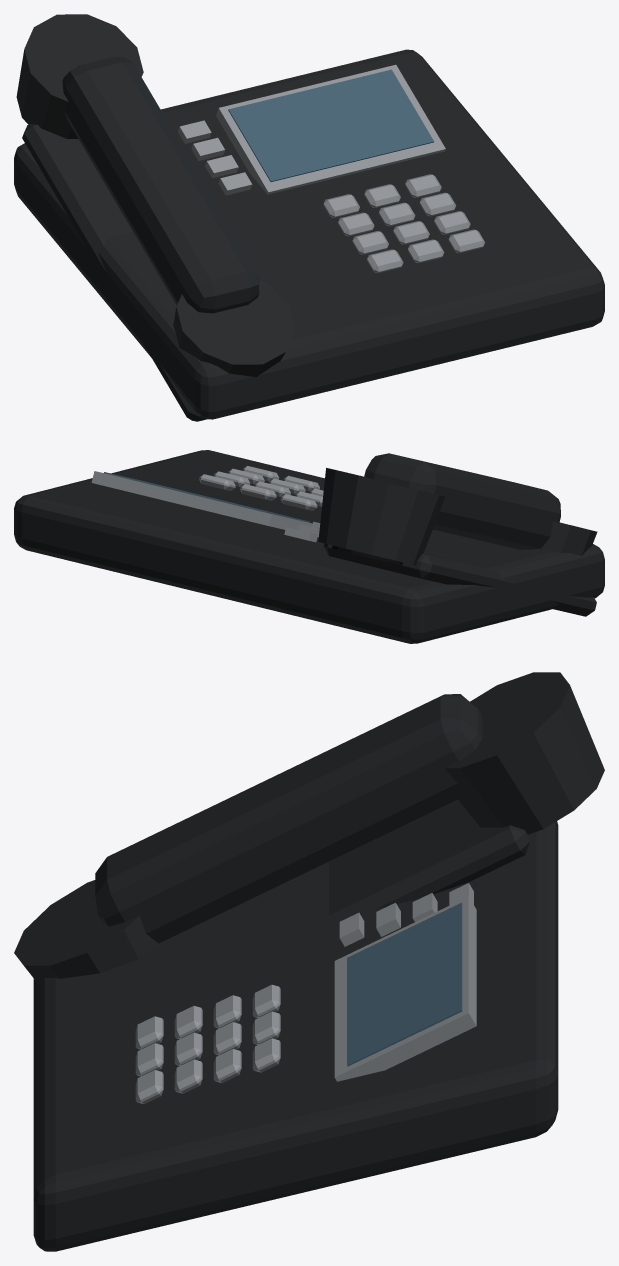
Rendered from desk_phone_office.glb.
The picture shows the model from 3 angles, top to bottom: view 1: azimuth 30°, elevation 25°; view 2: azimuth 150°, elevation 25°; view 3: azimuth 270°, elevation 25°; orthographic projection. The views are drawn at different scales.
Parts seen in each view (by area): view 1: DeskPhone, Handset; view 2: DeskPhone, Handset; view 3: DeskPhone, Handset.
Part boxes in pixels (bbox=[...]): DeskPhone: bbox=[14, 49, 604, 421]; Handset: bbox=[16, 14, 295, 377]; DeskPhone: bbox=[14, 450, 604, 643]; Handset: bbox=[318, 453, 597, 565]; DeskPhone: bbox=[33, 799, 558, 1251]; Handset: bbox=[14, 672, 604, 981].
Bounding box in the file's own units: 0.23 × 0.1412 × 0.214.
